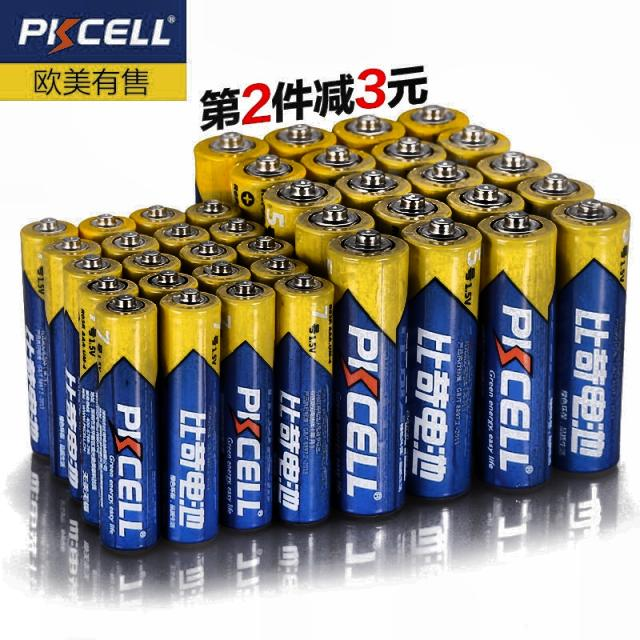Non-Valuable Waste - Batteries: (328, 229, 409, 514), (476, 211, 558, 488), (401, 218, 481, 498), (551, 199, 630, 472), (95, 295, 160, 549), (159, 288, 221, 543), (78, 275, 139, 524), (274, 274, 334, 523), (216, 280, 275, 529), (42, 235, 101, 478), (64, 254, 122, 499), (20, 218, 78, 456), (296, 204, 375, 277), (194, 131, 269, 202), (231, 154, 306, 223), (262, 179, 341, 242), (516, 172, 593, 217), (372, 192, 450, 236), (446, 184, 524, 226), (335, 169, 410, 212), (406, 160, 484, 201), (436, 125, 510, 166), (371, 136, 446, 176), (300, 145, 375, 184), (476, 151, 551, 189), (332, 115, 405, 151), (265, 124, 336, 161), (398, 105, 468, 141), (191, 260, 250, 293), (139, 270, 198, 303), (101, 230, 160, 262), (122, 250, 181, 282), (179, 240, 236, 273), (154, 222, 209, 256), (236, 235, 294, 267), (250, 255, 308, 286), (79, 214, 136, 243), (130, 205, 186, 234), (210, 218, 265, 247), (186, 199, 240, 228)
